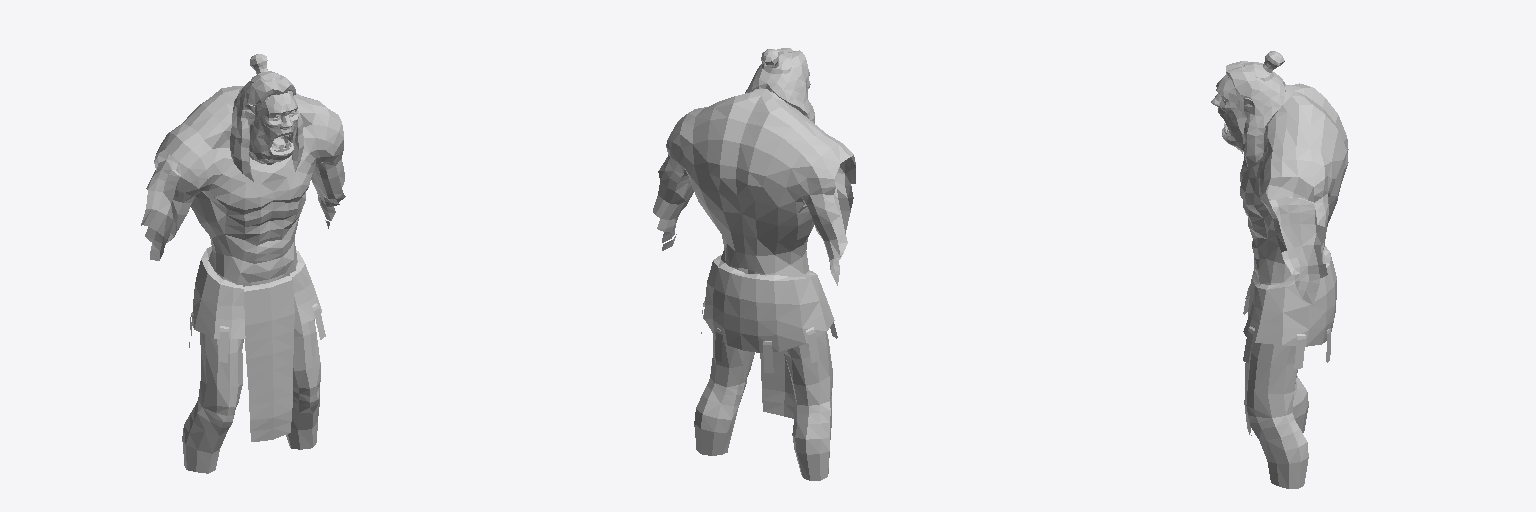
Rendered from ZombieTorso.obj.
3 renders of one model, left to right at view 1: azimuth 30°, elevation 25°; view 2: azimuth 150°, elevation 25°; view 3: azimuth 270°, elevation 25°, orthographic.
Parts seen in each view (by area): view 1: ZombieTorso:Mesh; view 2: ZombieTorso:Mesh; view 3: ZombieTorso:Mesh.
Boxes of the visible parts, box(x1,y1,x2,y2) form: ZombieTorso:Mesh: box(141, 54, 345, 473); ZombieTorso:Mesh: box(653, 48, 855, 480); ZombieTorso:Mesh: box(1211, 51, 1348, 488).
Bounding box in the file's own units: 1.69 × 3.49 × 1.07.